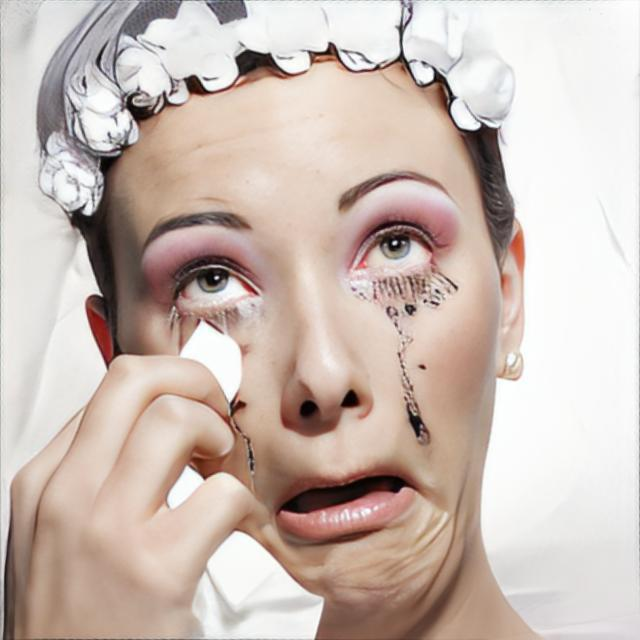sad: (114, 41, 497, 618)
